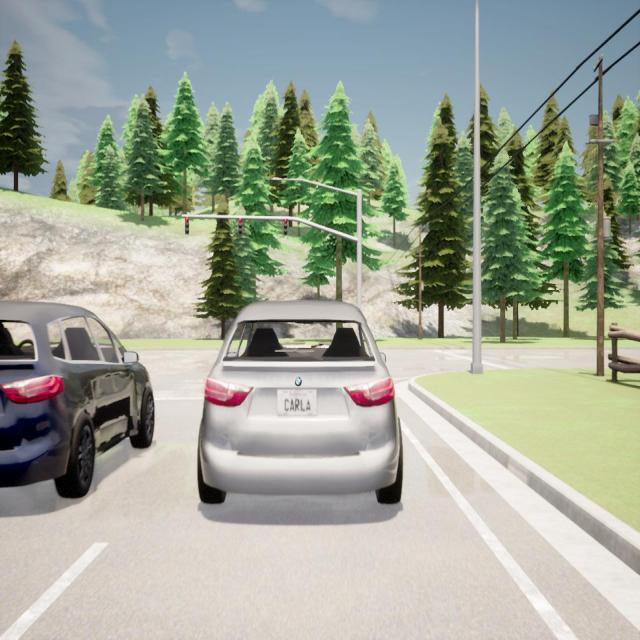Vehicle: (197, 300, 403, 502), (0, 302, 154, 496)
traffic_light: (238, 218, 243, 234), (284, 218, 288, 236), (185, 217, 189, 234)
